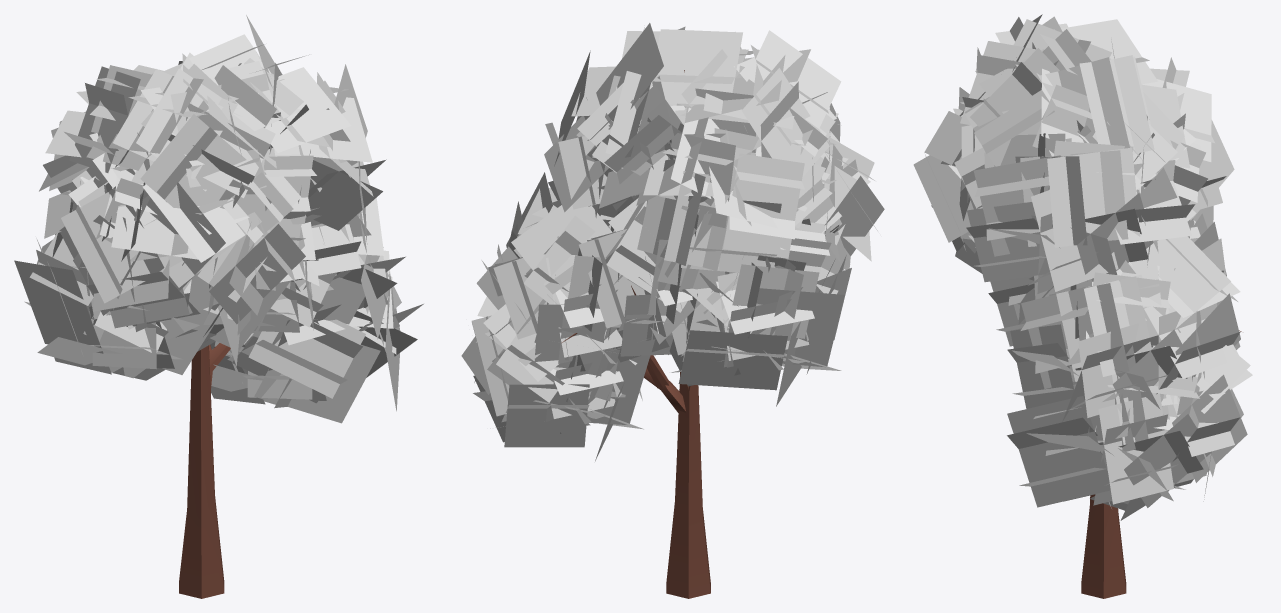
Rendered from tree.glb.
The picture shows the model from 3 angles, left to right: view 1: azimuth 30°, elevation 25°; view 2: azimuth 150°, elevation 25°; view 3: azimuth 270°, elevation 25°; orthographic projection. The views are drawn at different scales.
Visible parts, largest first — view 1: leavesAnim2, treeAnim2; view 2: leavesAnim2, treeAnim2; view 3: leavesAnim2, treeAnim2.
Part boxes in pixels (box(x1,y1,x2,y2)): leavesAnim2: box(14, 15, 423, 423); treeAnim2: box(179, 343, 230, 598); leavesAnim2: box(461, 23, 884, 461); treeAnim2: box(561, 70, 710, 598); leavesAnim2: box(913, 14, 1252, 520); treeAnim2: box(1081, 330, 1241, 598).
Bounding box in the file's own units: 16.47 × 22.52 × 13.03.
